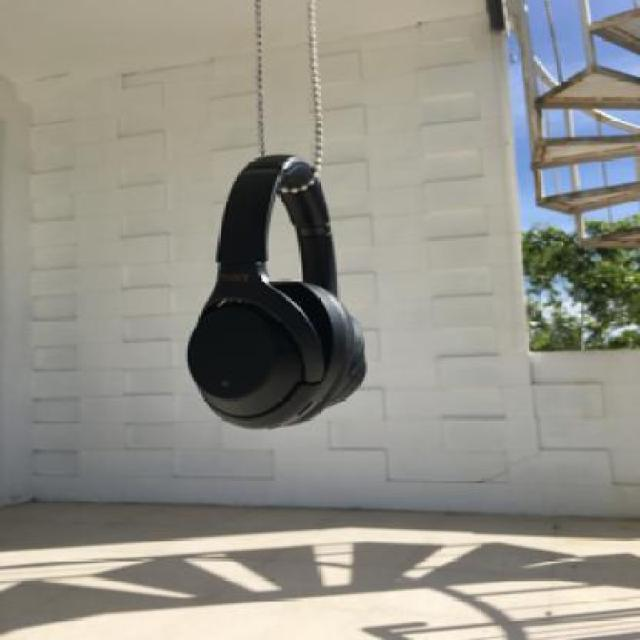earphone: (175, 125, 392, 462)
